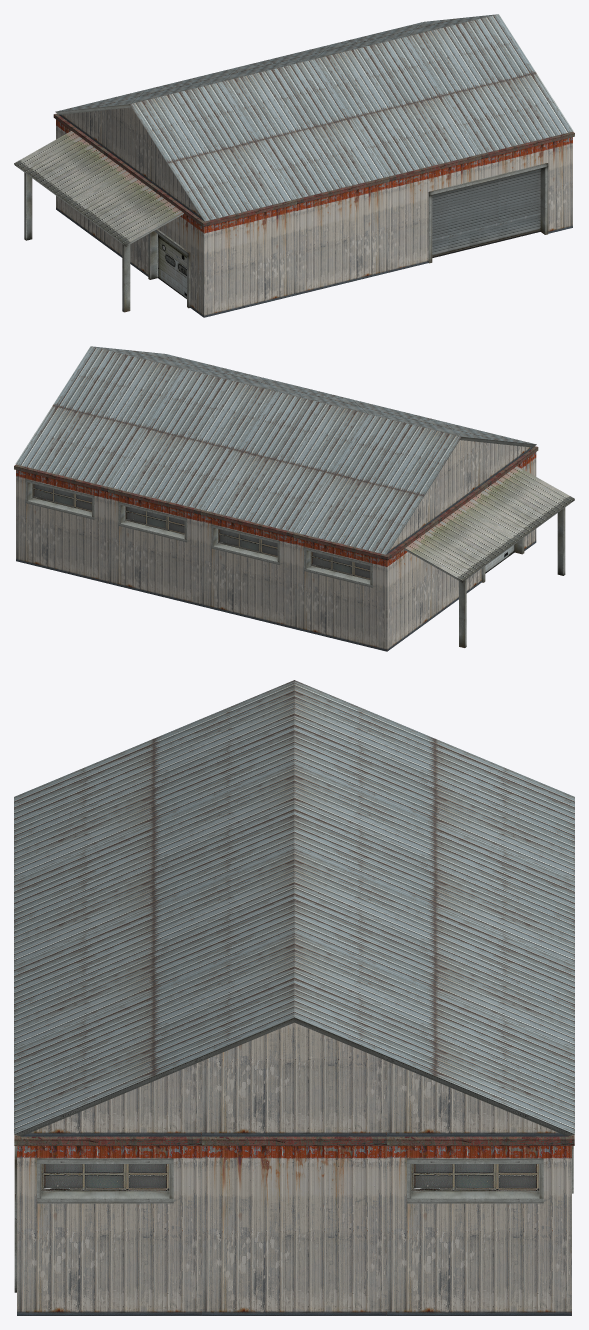
The model's file is Hangar_v2_4.FBX.
3 renders of one model, top to bottom at view 1: azimuth 30°, elevation 25°; view 2: azimuth 150°, elevation 25°; view 3: azimuth 270°, elevation 25°, orthographic. The views are drawn at different scales.
Visible parts, largest first — view 1: Hangar_v2_4, Hangar_v2_bulkhead1; view 2: Hangar_v2_4, Hangar_v2_bulkhead1; view 3: Hangar_v2_4.
Part boxes in pixels (x1,y1,x2,y2): Hangar_v2_4: (53,14,574,317); Hangar_v2_bulkhead1: (14,131,183,312); Hangar_v2_4: (14,346,538,651); Hangar_v2_bulkhead1: (404,466,574,647); Hangar_v2_4: (14,680,574,1315).
Bounding box in the file's own units: 22.91 × 8.14 × 13.86.
